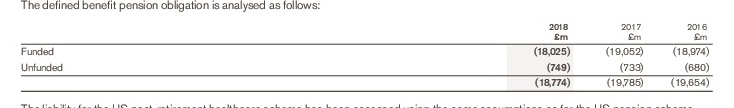table: (0, 0, 734, 108)
